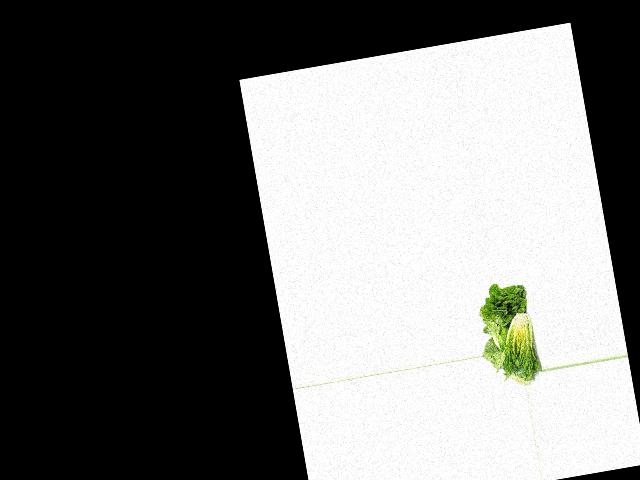lettuce: (475, 280, 538, 349)
